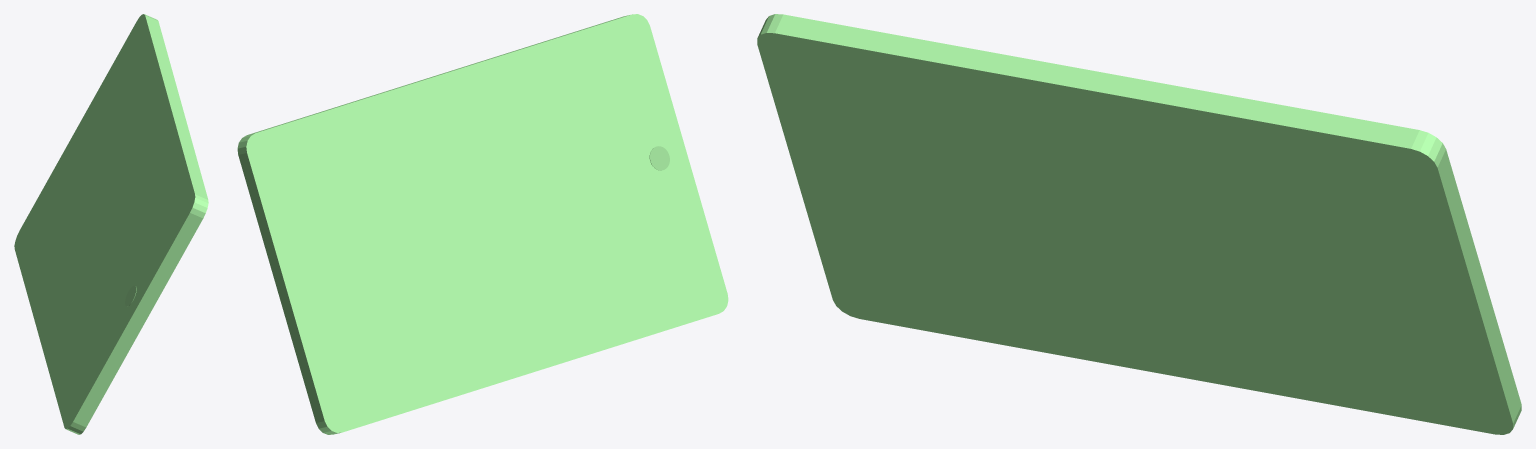
The model's file is tablet.glb.
3 renders of one model, left to right at view 1: azimuth 30°, elevation 25°; view 2: azimuth 150°, elevation 25°; view 3: azimuth 270°, elevation 25°, orthographic. The views are drawn at different scales.
Visible parts, largest first — view 1: tablet; view 2: tablet; view 3: tablet.
Part boxes in pixels (x1,y1,x2,y2): tablet: (14,14,208,434); tablet: (237,14,728,434); tablet: (757,14,1521,434).
Size of the model in its own units: 0.3378 by 0.284 by 0.5193.
